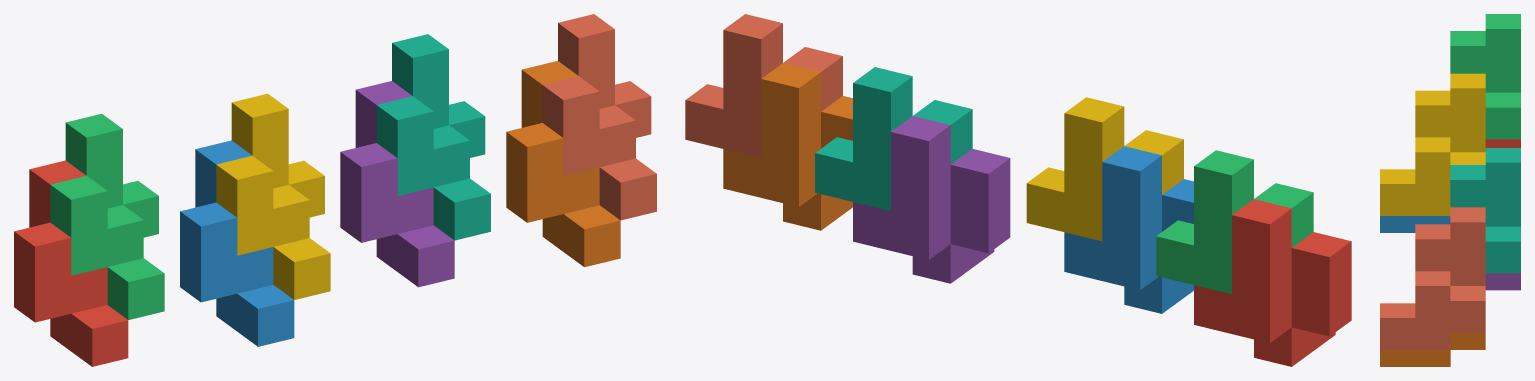
The model's file is tiling.obj.
3 views of the same model, side by side, from view 1: azimuth 30°, elevation 25°; view 2: azimuth 150°, elevation 25°; view 3: azimuth 270°, elevation 25° (orthographic). The views are drawn at different scales.
Visible parts, largest first — view 1: copy_1_domain_4, copy_1_domain_8, copy_1_domain_7, copy_1_domain_3, copy_1_domain_2, copy_1_domain_5, copy_1_domain_6, copy_1_domain_1; view 2: copy_1_domain_5, copy_1_domain_1, copy_1_domain_2, copy_1_domain_6, copy_1_domain_4, copy_1_domain_8, copy_1_domain_7, copy_1_domain_3; view 3: copy_1_domain_8, copy_1_domain_4, copy_1_domain_3, copy_1_domain_7, copy_1_domain_6, copy_1_domain_2, copy_1_domain_5, copy_1_domain_1.
Boxes of the visible parts, <box> form: copy_1_domain_4: <box>216,93,330,299</box>; copy_1_domain_8: <box>542,14,656,220</box>; copy_1_domain_7: <box>376,34,490,240</box>; copy_1_domain_3: <box>50,113,164,319</box>; copy_1_domain_2: <box>180,140,294,346</box>; copy_1_domain_5: <box>340,81,454,287</box>; copy_1_domain_6: <box>506,61,620,267</box>; copy_1_domain_1: <box>14,160,128,366</box>; copy_1_domain_5: <box>853,116,1010,283</box>; copy_1_domain_1: <box>1194,199,1351,366</box>; copy_1_domain_2: <box>1064,146,1193,313</box>; copy_1_domain_6: <box>723,63,852,230</box>; copy_1_domain_4: <box>1026,97,1183,241</box>; copy_1_domain_8: <box>685,14,842,157</box>; copy_1_domain_7: <box>815,67,972,210</box>; copy_1_domain_3: <box>1156,150,1313,294</box>; copy_1_domain_8: <box>1380,207,1485,349</box>; copy_1_domain_4: <box>1380,73,1485,215</box>; copy_1_domain_3: <box>1450,14,1520,139</box>; copy_1_domain_7: <box>1450,148,1520,273</box>; copy_1_domain_6: <box>1380,333,1485,366</box>; copy_1_domain_2: <box>1380,216,1450,232</box>; copy_1_domain_5: <box>1485,273,1520,290</box>; copy_1_domain_1: <box>1485,139,1520,147</box>.
Size of the model in its own units: 17 by 5 by 4.
